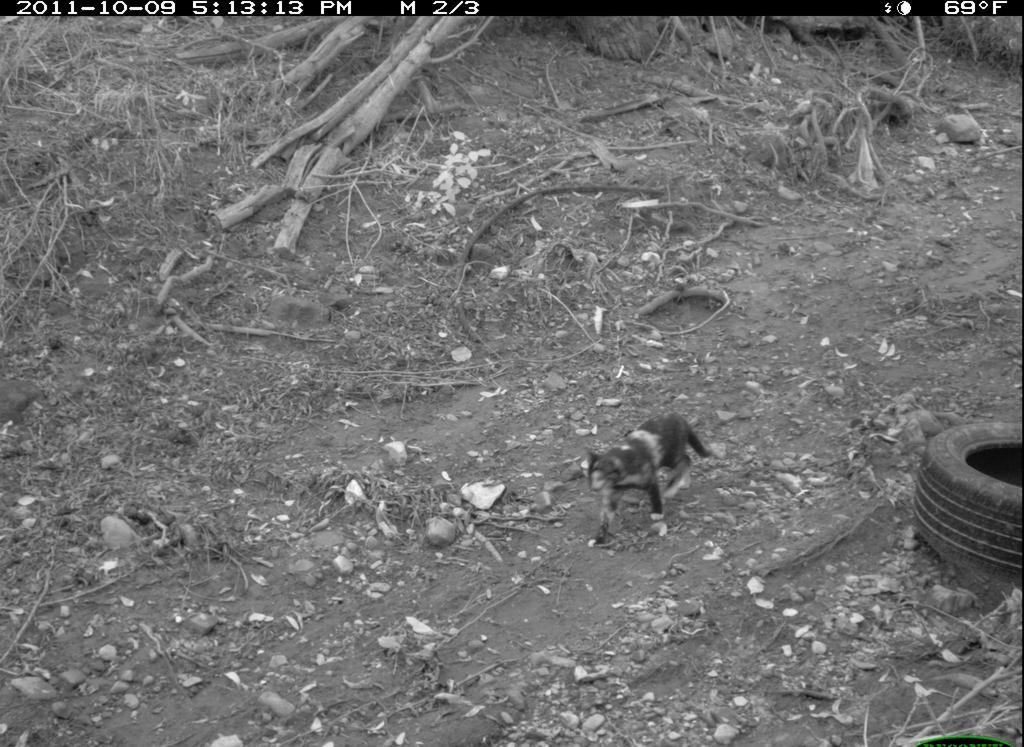cat: (569, 408, 753, 553)
